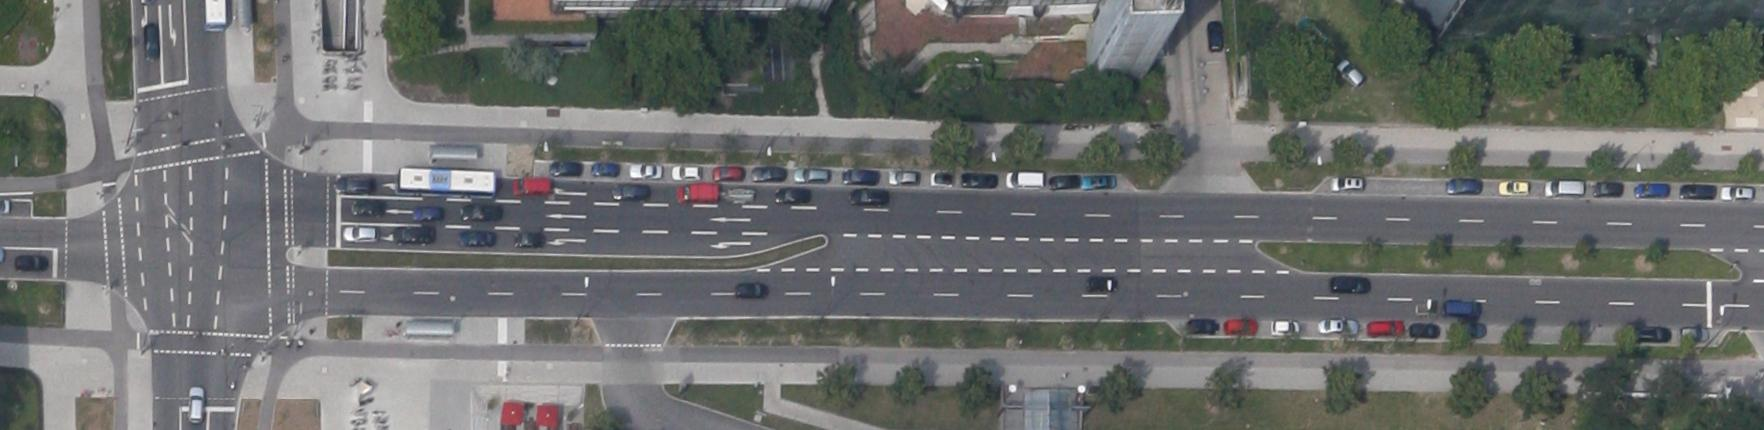car: (1334, 57, 1366, 89), (677, 183, 718, 204), (1442, 298, 1483, 317), (394, 226, 433, 245), (335, 174, 372, 195), (460, 204, 502, 222), (513, 177, 550, 196), (1545, 179, 1584, 197), (1329, 277, 1370, 294), (612, 183, 649, 201), (1317, 320, 1359, 335), (187, 385, 204, 423), (849, 188, 888, 205), (15, 254, 49, 272), (1006, 171, 1043, 188), (351, 199, 385, 217), (774, 187, 810, 204), (143, 24, 159, 61), (1367, 320, 1404, 335), (342, 226, 378, 242), (459, 231, 495, 247), (1678, 183, 1714, 199), (1444, 178, 1480, 194), (793, 168, 828, 183), (735, 283, 768, 298), (1206, 20, 1223, 52), (1639, 325, 1671, 342), (1330, 176, 1363, 191), (843, 170, 879, 185), (1592, 180, 1622, 197), (1086, 276, 1116, 293), (1187, 319, 1218, 334), (1224, 319, 1255, 334), (751, 165, 783, 181), (1270, 319, 1299, 335), (1635, 183, 1668, 198), (962, 173, 996, 188), (1408, 322, 1439, 338), (1720, 186, 1753, 200), (629, 164, 661, 179), (549, 161, 582, 176), (413, 206, 442, 222), (713, 165, 742, 181), (727, 187, 754, 204), (1082, 174, 1116, 188), (514, 233, 544, 248), (1050, 174, 1080, 189), (672, 164, 700, 180), (1498, 180, 1528, 195), (1681, 326, 1708, 342), (591, 161, 618, 177), (889, 170, 918, 183), (930, 171, 952, 186), (1415, 302, 1435, 315)
